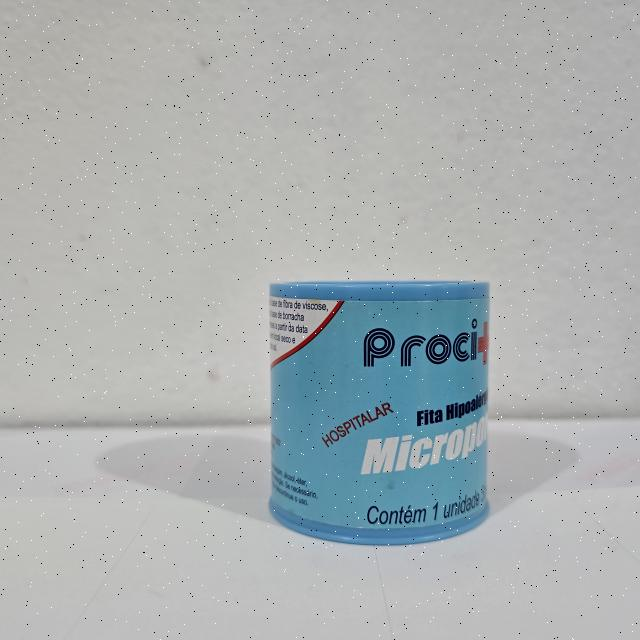procitex: (264, 276, 494, 549)
